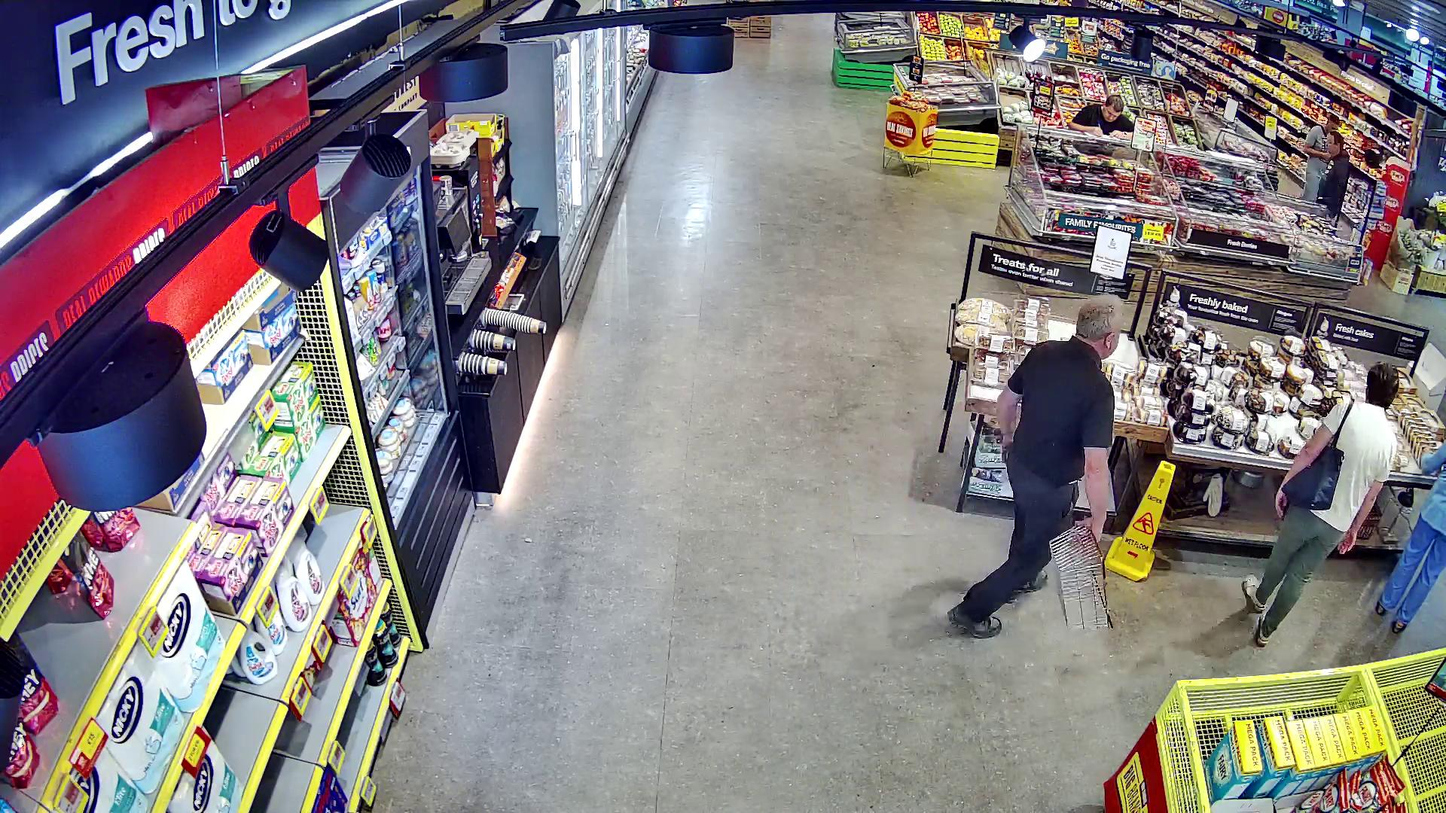backpack-or-handbag: (1281, 444, 1345, 510)
empty-basket: (1052, 522, 1116, 630)
person: (946, 293, 1122, 636), (1243, 362, 1400, 645)
person-with-backpack-handbag: (1243, 361, 1400, 644)
person-with-empty-basket-trolly: (945, 293, 1122, 638)
